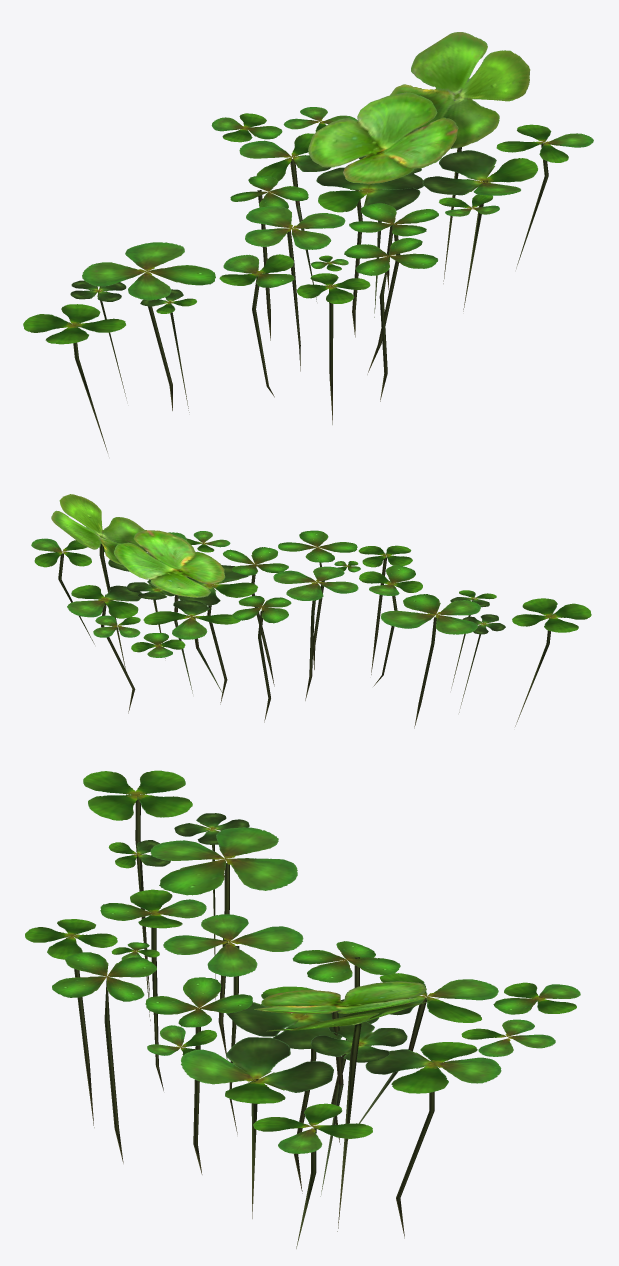
Rendered from wm_灌木田子萍01.fbx.
The picture shows the model from 3 angles, top to bottom: view 1: azimuth 30°, elevation 25°; view 2: azimuth 150°, elevation 25°; view 3: azimuth 270°, elevation 25°; orthographic projection. The views are drawn at different scales.
Visible parts, largest first — view 1: wm_灌木田子萍01; view 2: wm_灌木田子萍01; view 3: wm_灌木田子萍01.
Boxes of the visible parts, x1,y1,x2,y2 form: wm_灌木田子萍01: (23, 32, 593, 452); wm_灌木田子萍01: (31, 494, 591, 728); wm_灌木田子萍01: (25, 770, 580, 1248).
Size of the model in its own units: 485 by 172 by 302.
